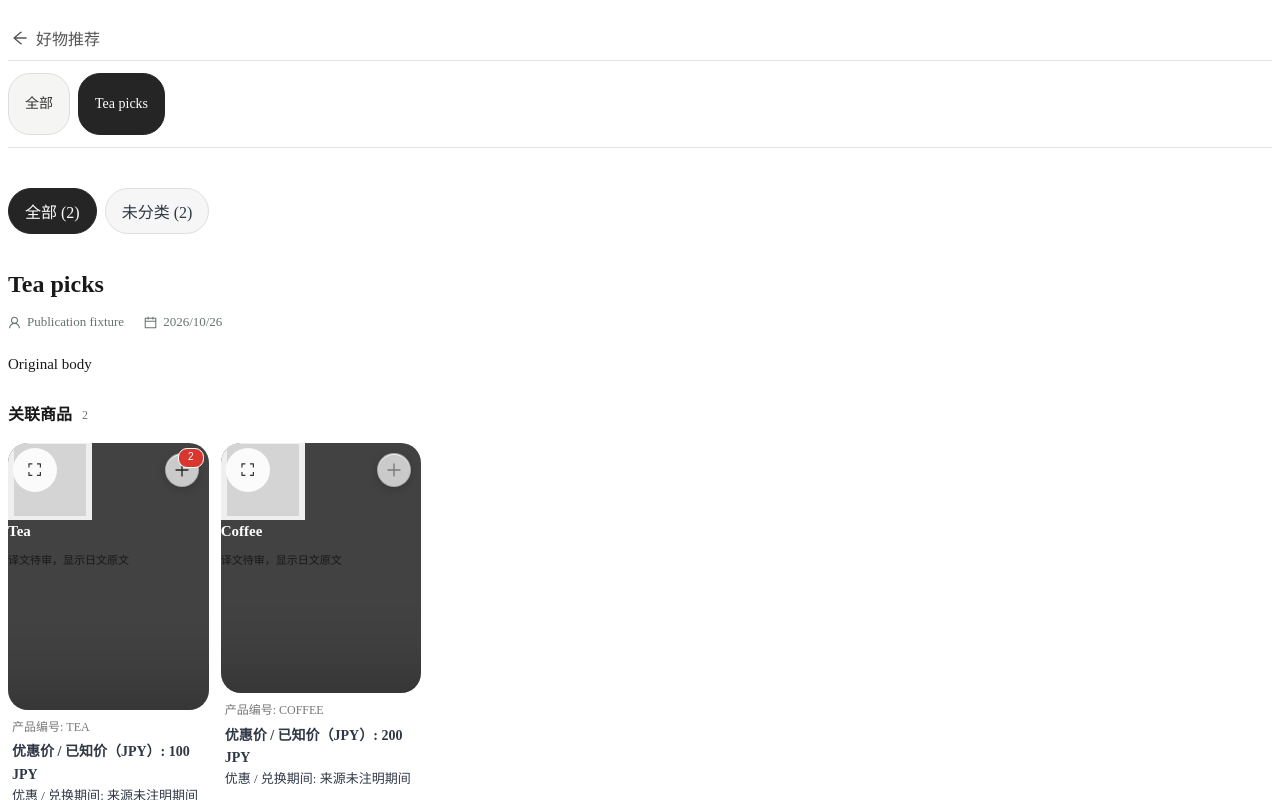
Recommendations › shows the recorded publisher and server publication time with the article title
Expected: the heading "Tea picks" is shown, left=8, top=271, right=104, bottom=297
Expected: the text "Publication fixture" is shown, left=8, top=314, right=124, bottom=330
Click the 1st button with class "rec-pin-preview" at (35, 470), box left=13, top=448, right=57, bottom=492
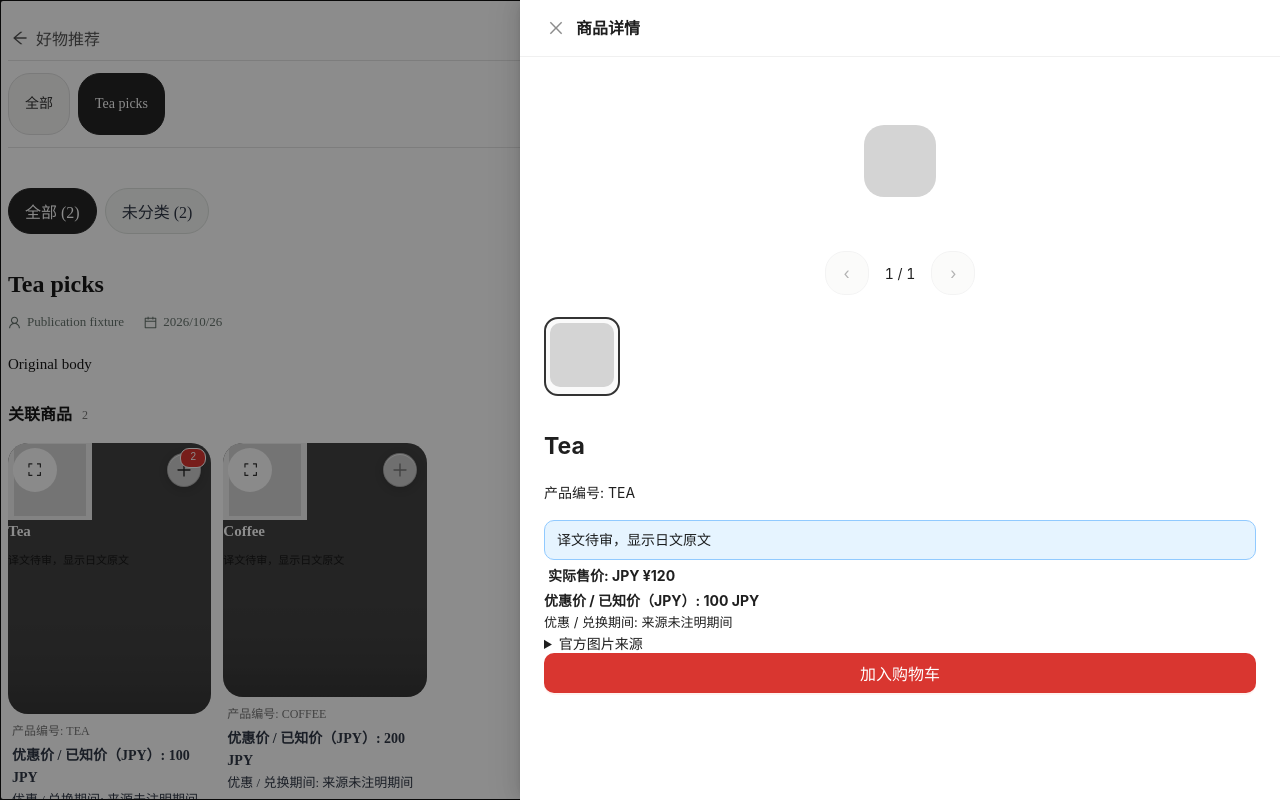
Result: the dialog is shown at left=520, top=0, right=1279, bottom=799
